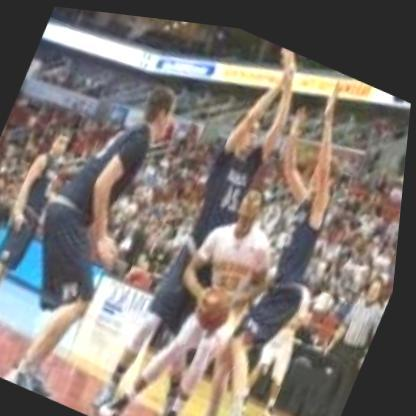basketball: (191, 274, 245, 333)
